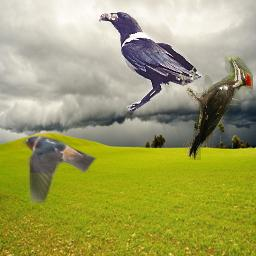Crow: (98, 11, 205, 111)
Swallow: (23, 133, 97, 203)
Woodpecker: (183, 57, 253, 160)
